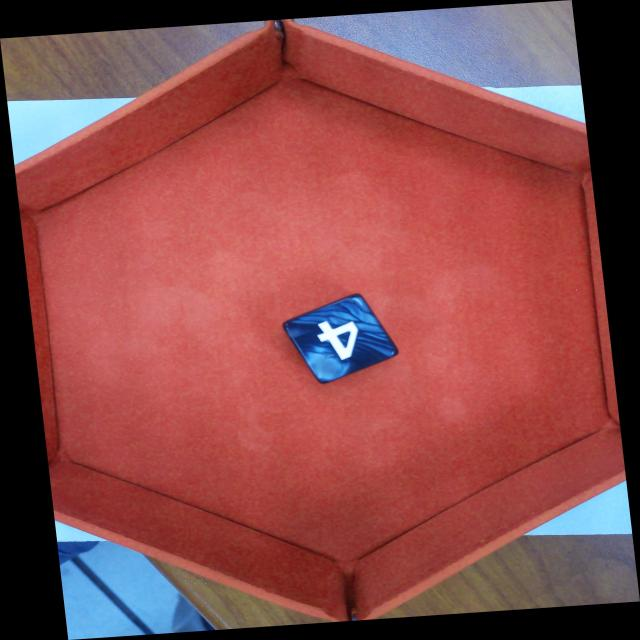dice: (282, 294, 401, 387)
